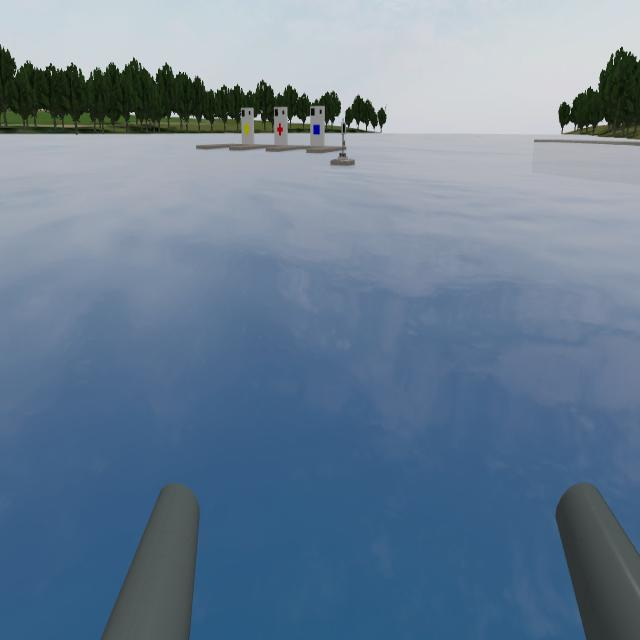black_pole: (338, 116, 352, 140)
